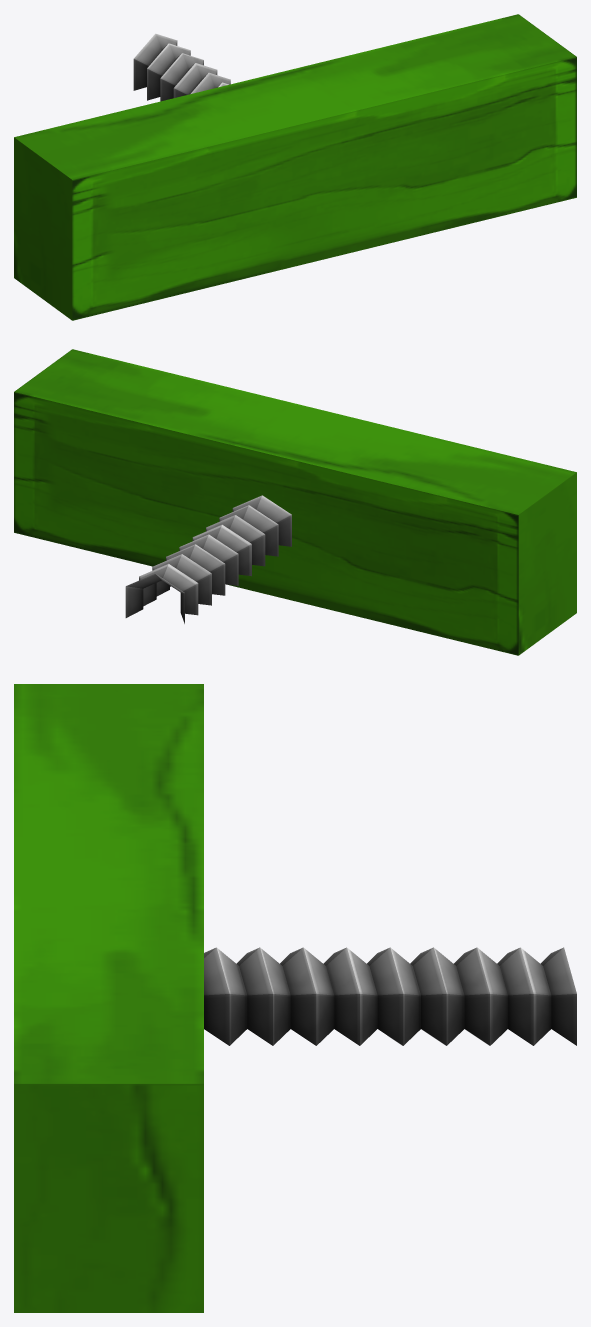
The model's file is wall_green_02.fbx.
3 renders of one model, top to bottom at view 1: azimuth 30°, elevation 25°; view 2: azimuth 150°, elevation 25°; view 3: azimuth 270°, elevation 25°, orthographic. The views are drawn at different scales.
Visible parts, largest first — view 1: wall_2, spring_1; view 2: wall_2, spring_1; view 3: wall_2, spring_1.
Boxes of the visible parts, <box> form: wall_2: <box>14,14,576,320</box>; spring_1: <box>133,33,230,101</box>; wall_2: <box>14,349,576,655</box>; spring_1: <box>125,495,291,623</box>; wall_2: <box>14,684,203,1312</box>; spring_1: <box>204,947,576,1045</box>.
Size of the model in its own units: 150 by 40 by 89.2.
